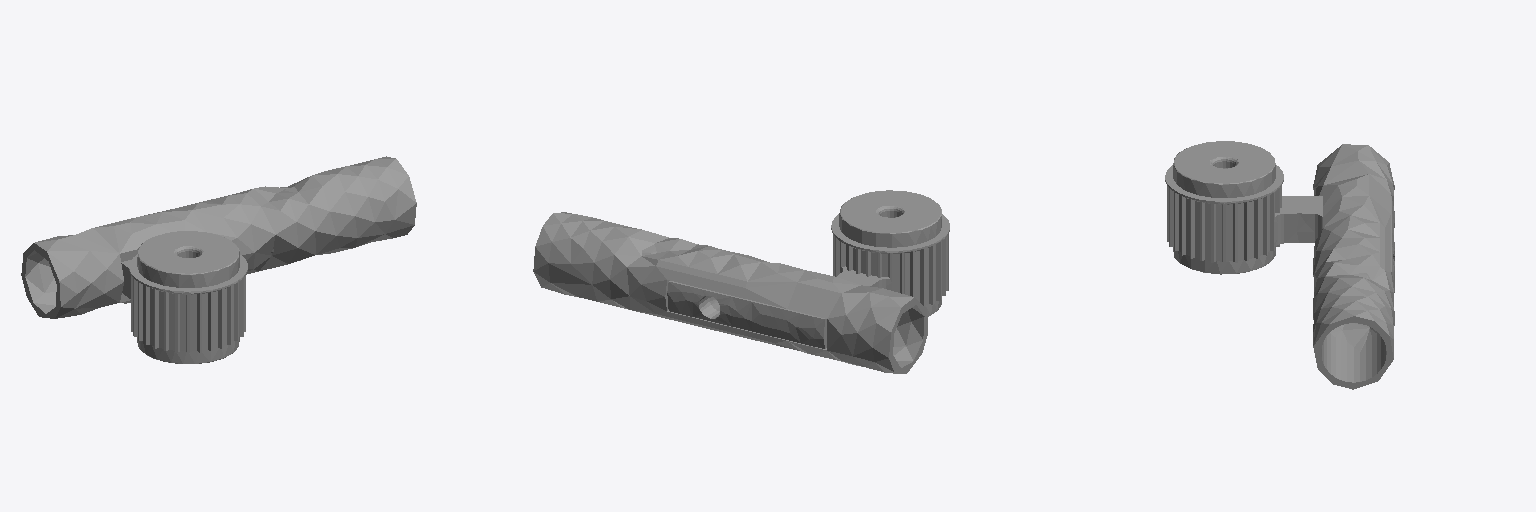
Rendered from r_foot.obj.
3 renders of one model, left to right at view 1: azimuth 30°, elevation 25°; view 2: azimuth 150°, elevation 25°; view 3: azimuth 270°, elevation 25°, orthographic.
Visible parts, largest first — view 1: obj1; view 2: obj1; view 3: obj1.
Boxes of the visible parts, box(x1,y1,x2,y2) form: obj1: box(21, 156, 416, 363); obj1: box(533, 190, 949, 373); obj1: box(1165, 141, 1394, 389).
Bounding box in the file's own units: 0.1 × 0.0254 × 0.056.